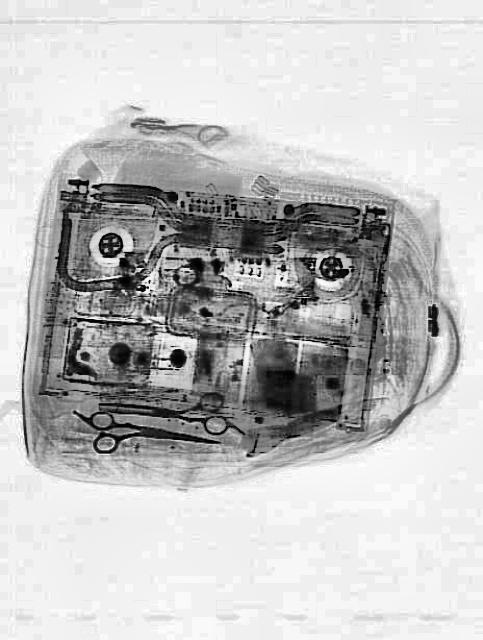Scissors: (83, 408, 222, 464), (92, 383, 229, 435)
